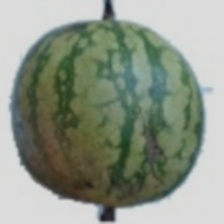watermelon: (7, 12, 209, 171)
